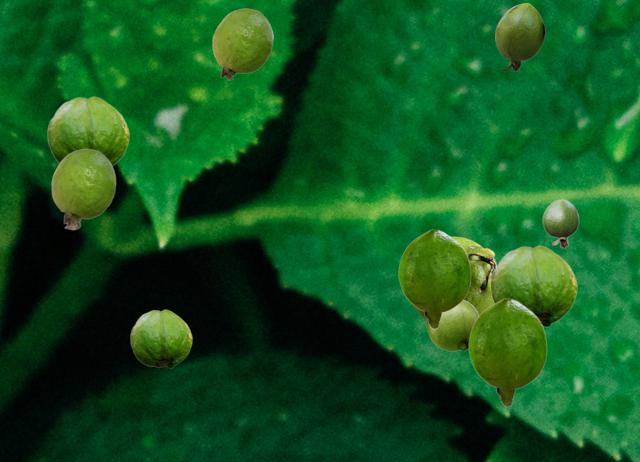guava: (468, 298, 546, 406), (411, 236, 497, 319), (398, 229, 470, 328), (490, 245, 576, 326), (47, 96, 128, 165), (51, 148, 115, 229), (212, 8, 272, 79), (130, 309, 191, 367), (495, 3, 544, 70), (426, 300, 478, 350), (542, 199, 578, 247)
